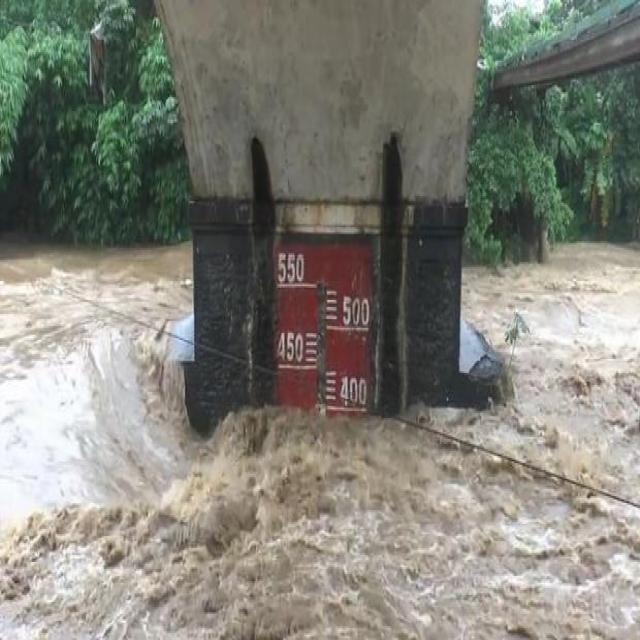ruler: (260, 208, 391, 434)
value: (273, 242, 309, 291), (336, 370, 370, 414), (340, 290, 372, 335), (272, 328, 306, 368)
